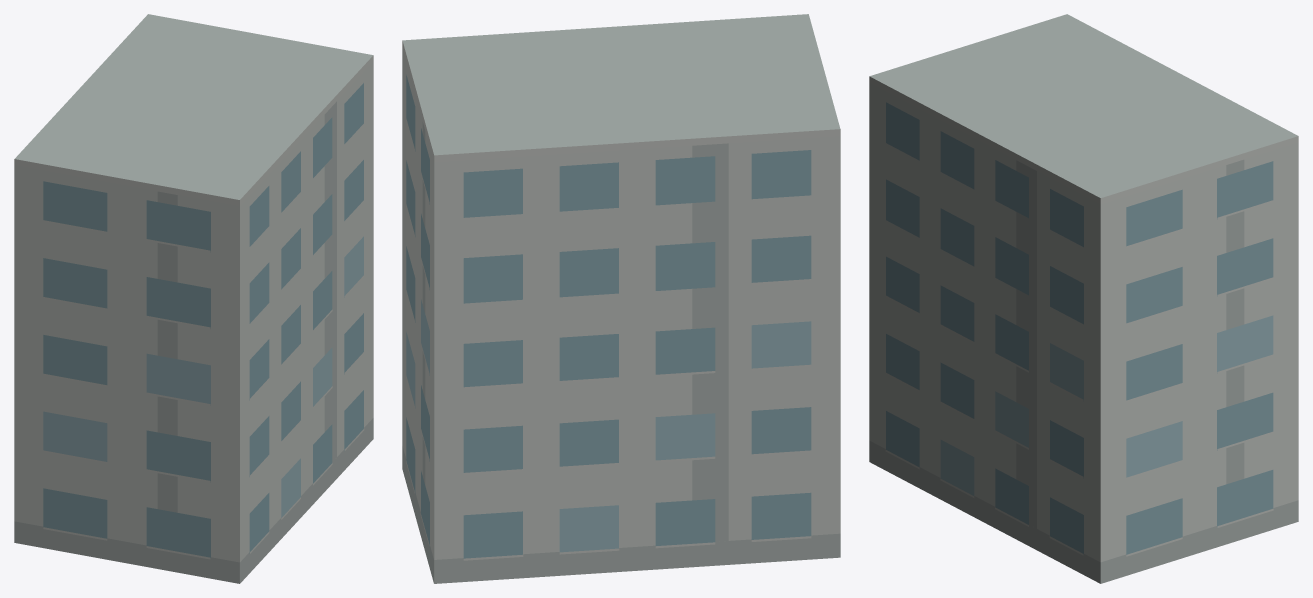
Rendered from survey-upis-32766556.glb.
The picture shows the model from 3 angles, left to right: view 1: azimuth 30°, elevation 25°; view 2: azimuth 150°, elevation 25°; view 3: azimuth 270°, elevation 25°; orthographic projection. The views are drawn at different scales.
Parts seen in each view (by area): view 1: survey-upis-32766556.tmp; view 2: survey-upis-32766556.tmp; view 3: survey-upis-32766556.tmp.
Part boxes in pixels (x1=…): survey-upis-32766556.tmp: x1=14, y1=14, x2=373, y2=583; survey-upis-32766556.tmp: x1=402, y1=14, x2=840, y2=583; survey-upis-32766556.tmp: x1=869, y1=14, x2=1298, y2=583.
Bounding box in the file's own units: 15.12 × 14.75 × 14.89.
